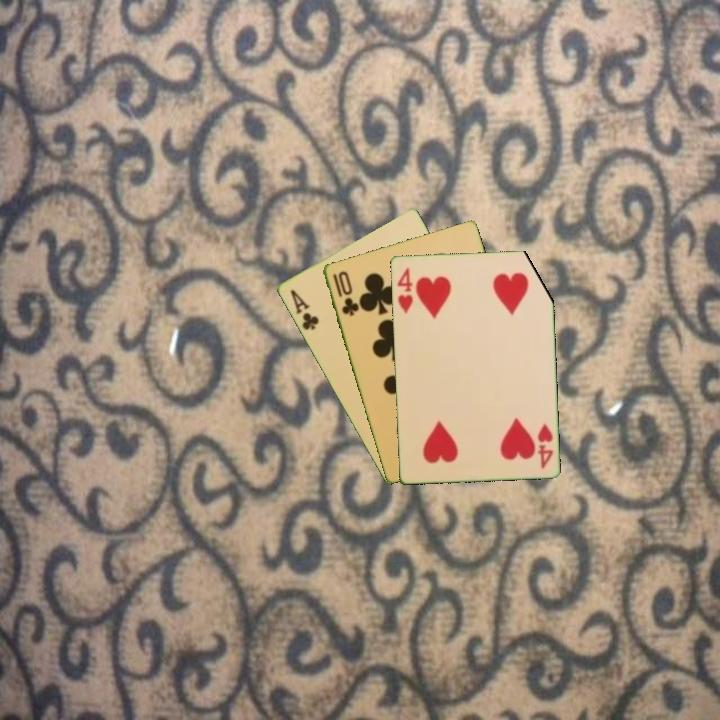10c: (329, 267, 361, 319)
4h: (533, 420, 556, 471), (393, 264, 415, 316)
Ac: (286, 286, 321, 333)
